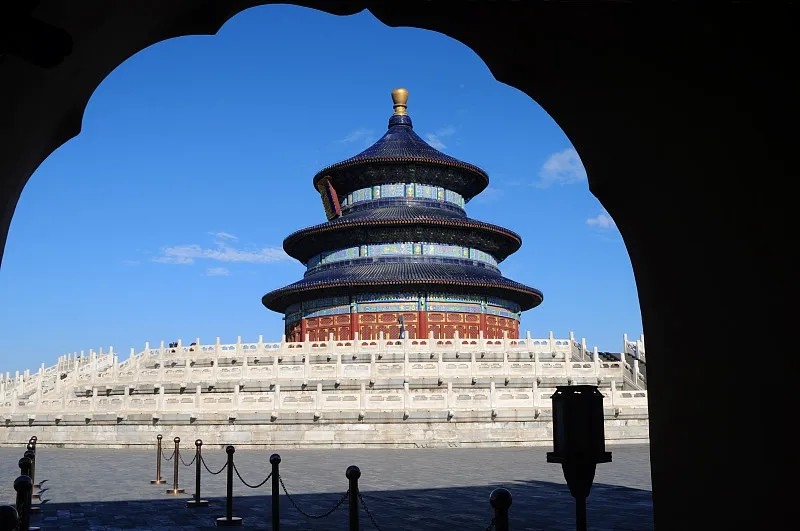Heaven: (262, 88, 543, 340)
